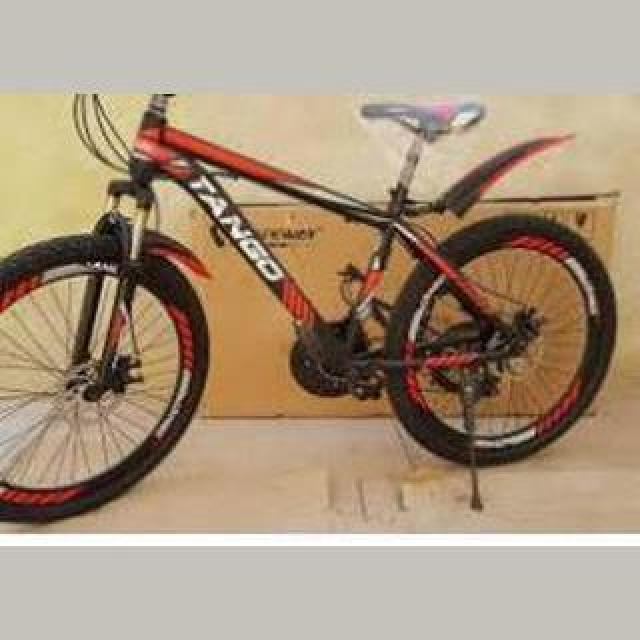Person: (0, 94, 620, 526)
